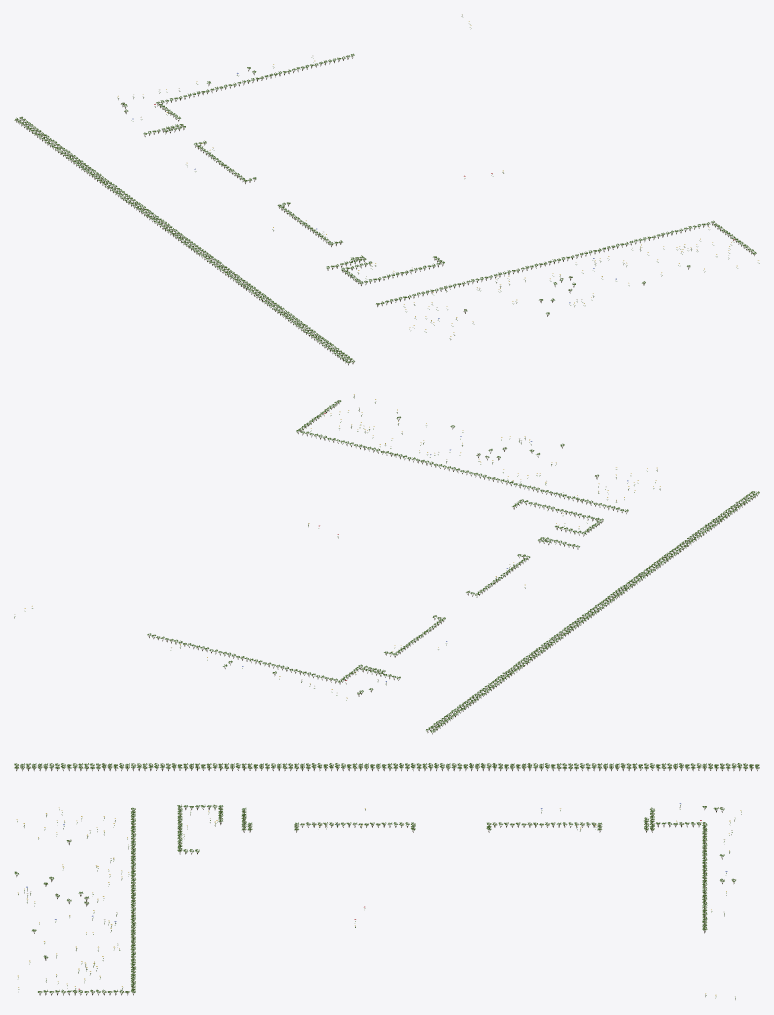
3 views of the same model, one above another, from view 1: azimuth 30°, elevation 25°; view 2: azimuth 150°, elevation 25°; view 3: azimuth 270°, elevation 25° (orthographic). The views are drawn at different scales.
Visible parts, largest first — view 1: GROUND_FLORA_s_-7_4; view 2: GROUND_FLORA_s_-7_4; view 3: GROUND_FLORA_s_-7_4.
Part boxes in pixels (left/top/right/bottom): GROUND_FLORA_s_-7_4: left=14, top=14, right=759, bottom=365; GROUND_FLORA_s_-7_4: left=14, top=394, right=759, bottom=734; GROUND_FLORA_s_-7_4: left=14, top=763, right=759, bottom=999.
Bounding box in the file's own units: 97.07 × 1.97 × 128.
